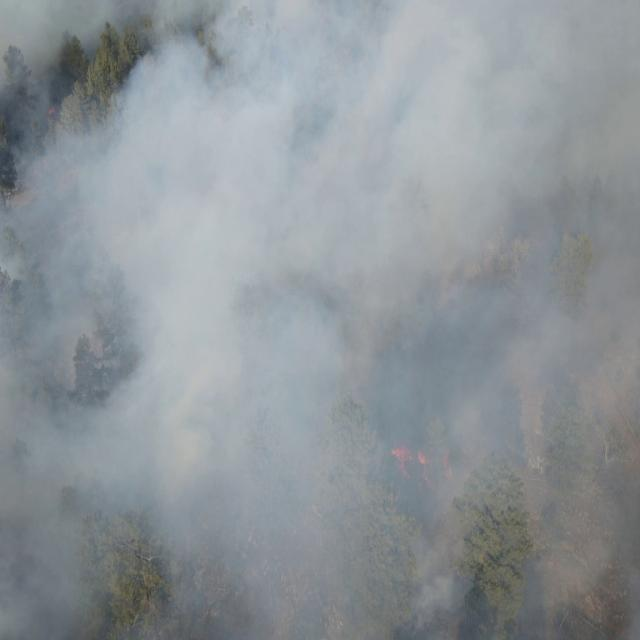fire: (390, 440, 434, 490), (438, 446, 454, 484), (42, 101, 60, 121)
smoke: (0, 0, 640, 640)
